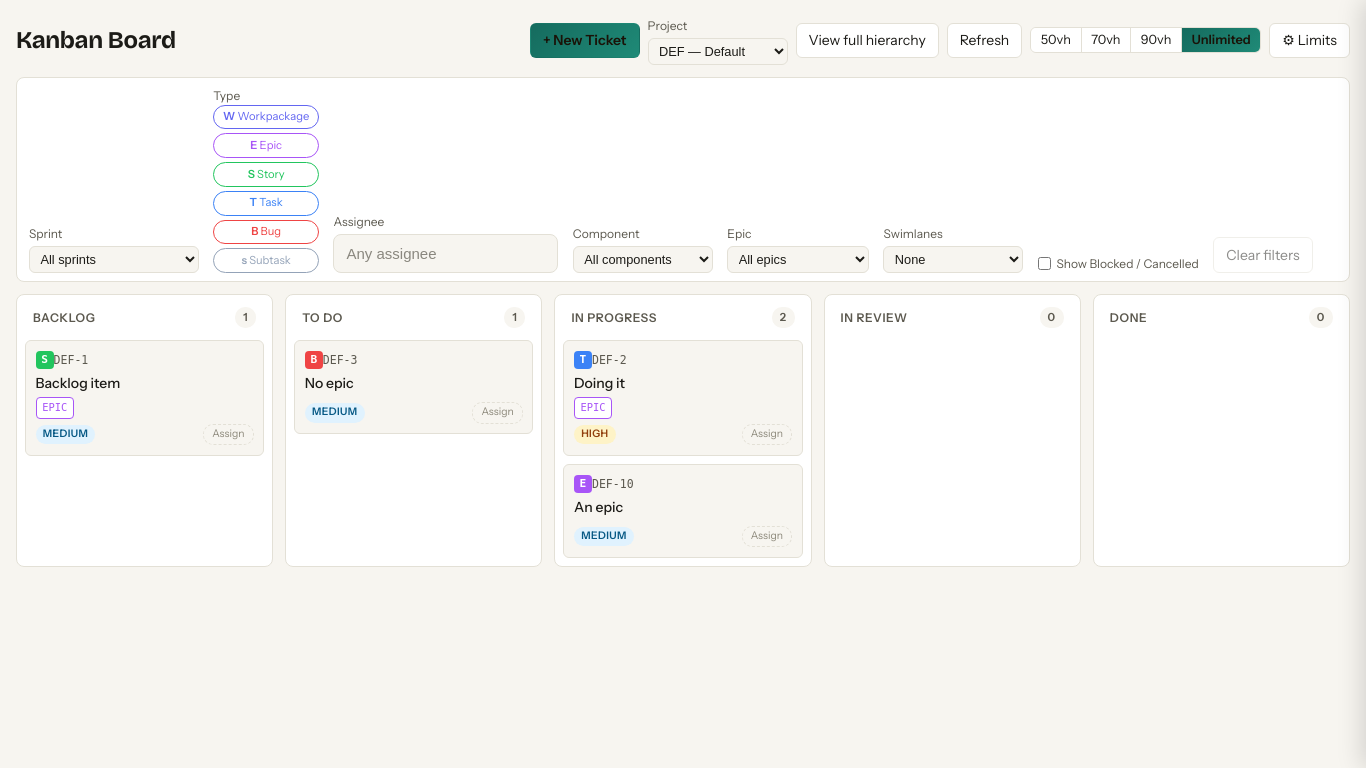
Test: KanbanBoard v2 › sprint filter narrows tickets (client-side filter over hierarchy)
This screenshot has width=1366, height=768.
Expected: the text "Backlog item" is shown, [36,374,120,392]
Select "Sprint 12 (active)" in the dropdown named "Filter by sprint" at point(114, 260), box [29,246,199,273]
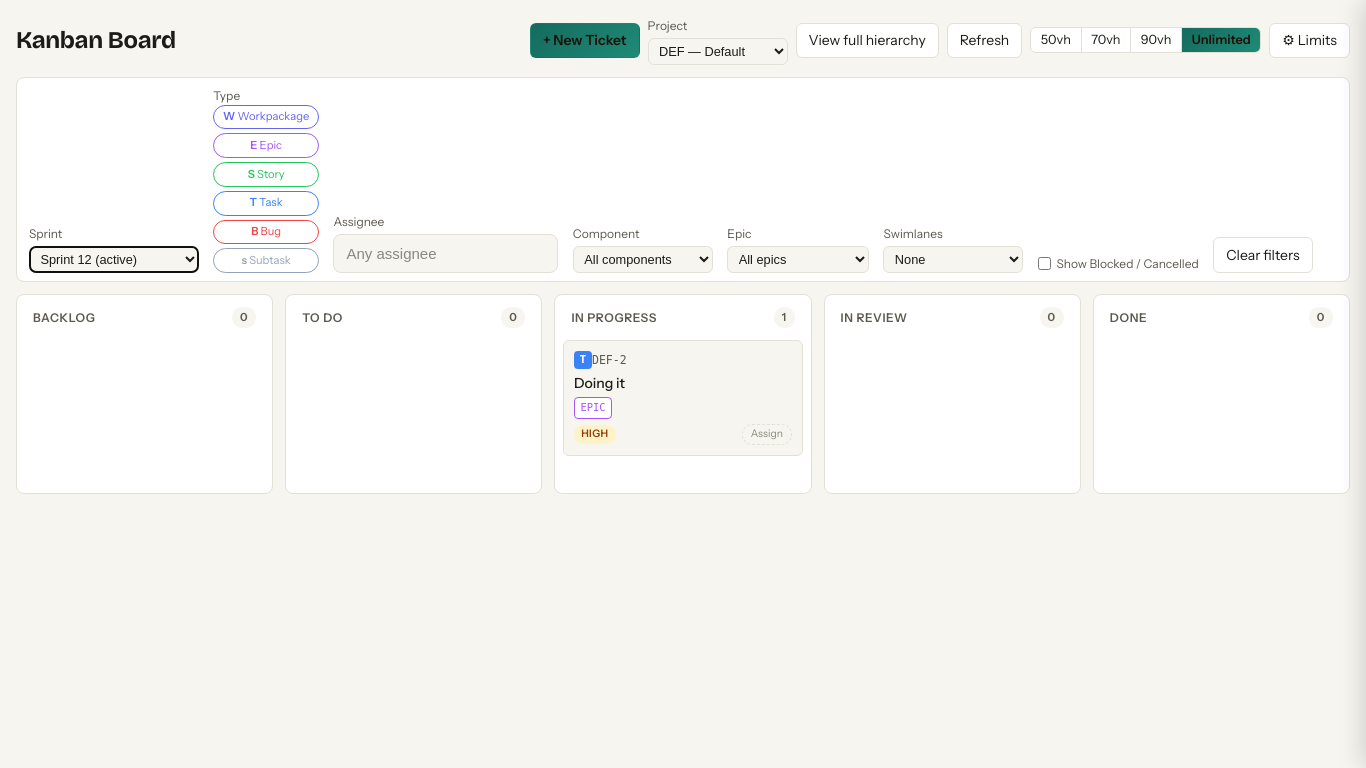
Expected: the text "Doing it" is shown, [574,374,625,392]
Now the button "Backlog item" is gone
